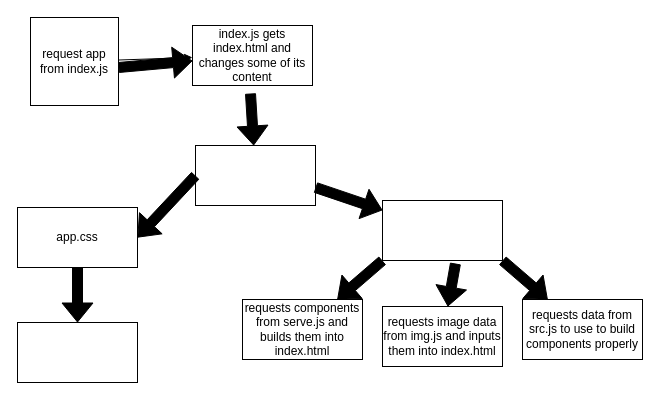
This 660x400 diagram has some shape labels left out. Here are the shapes that lost their labels. From the top down, the box of each, then its label:
(194, 144, 316, 206): index.html imports app.js and app.css by requesting their data from select.js
(382, 200, 502, 260): app.js
(16, 322, 138, 382): app.css requests an image from img.js
